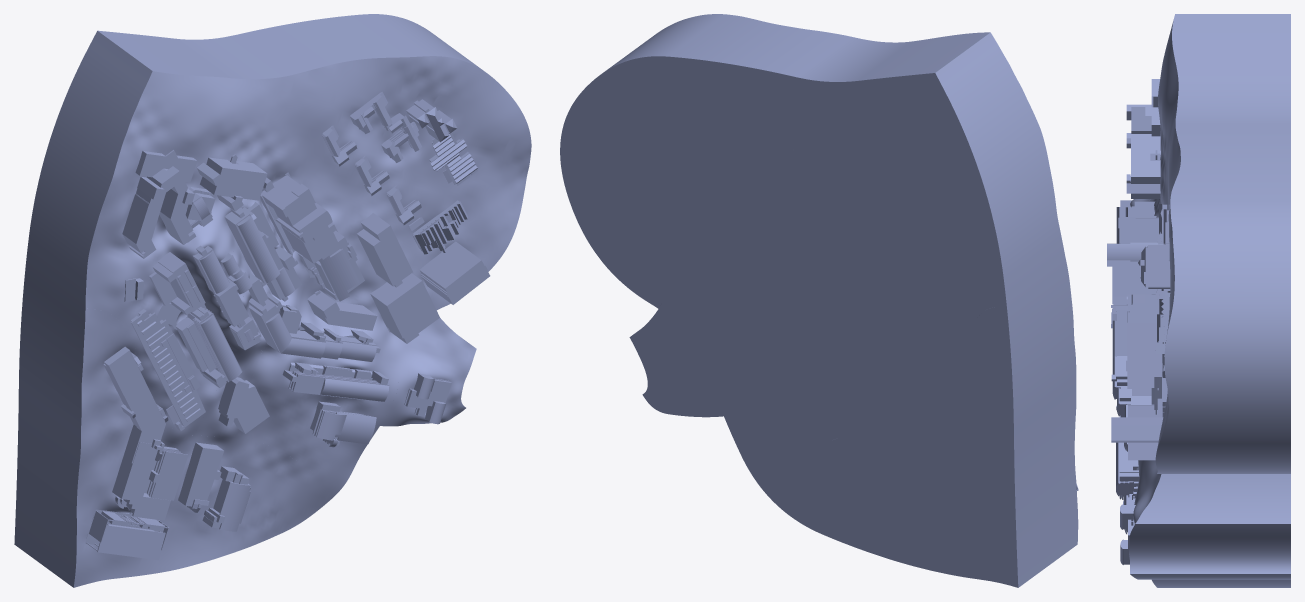
3 renders of one model, left to right at view 1: azimuth 30°, elevation 25°; view 2: azimuth 150°, elevation 25°; view 3: azimuth 270°, elevation 25°, orthographic. The views are drawn at different scales.
Visible parts, largest first — view 1: Not Important10, Not Important5, Not Important7, Not Important6, Not Important8, Not Important3, SDE3, EA, Not Important9, E4, T-Lab, EW1 (+22 smaller); view 2: Not Important10, Not Important5, Not Important7, Not Important3, Not Important6, Not Important8, Not Important9; view 3: Not Important5, Not Important9, Not Important7, T-Lab, E6, E3A, E4, No Idea, EA, Raffles Hall Kuok Foundation Building, E5, E7 (+12 smaller).
Boxes of the visible parts, bbox=[...] form: Not Important10: bbox=[14, 265, 334, 587]; Not Important5: bbox=[225, 14, 531, 309]; Not Important7: bbox=[30, 30, 298, 267]; Not Important6: bbox=[25, 220, 263, 435]; Not Important8: bbox=[194, 352, 400, 495]; Not Important3: bbox=[212, 155, 415, 365]; SDE3: bbox=[103, 346, 188, 520]; EA: bbox=[122, 150, 215, 258]; Not Important9: bbox=[380, 318, 476, 426]; E4: bbox=[248, 274, 380, 361]; T-Lab: bbox=[260, 172, 340, 263]; EW1: bbox=[130, 309, 205, 431]; Not Important10: bbox=[763, 264, 1078, 587]; Not Important5: bbox=[560, 14, 862, 308]; Not Important7: bbox=[792, 32, 1059, 268]; Not Important3: bbox=[659, 154, 886, 357]; Not Important6: bbox=[836, 214, 1066, 432]; Not Important8: bbox=[701, 345, 900, 490]; Not Important9: bbox=[629, 309, 723, 417]; Not Important5: bbox=[1155, 118, 1290, 473]; Not Important9: bbox=[1129, 474, 1290, 579]; Not Important7: bbox=[1158, 14, 1290, 204]; T-Lab: bbox=[1107, 217, 1162, 296]; E6: bbox=[1127, 322, 1162, 395]; E3A: bbox=[1126, 136, 1160, 198]; E4: bbox=[1111, 294, 1131, 451]; No Idea: bbox=[1111, 417, 1163, 442]; EA: bbox=[1126, 79, 1160, 148]; Raffles Hall Kuok Foundation Building: bbox=[1138, 245, 1170, 288]; E5: bbox=[1116, 405, 1138, 499]; E7: bbox=[1128, 405, 1162, 460].
Bounding box in the file's own units: 544 × 566 × 181.
